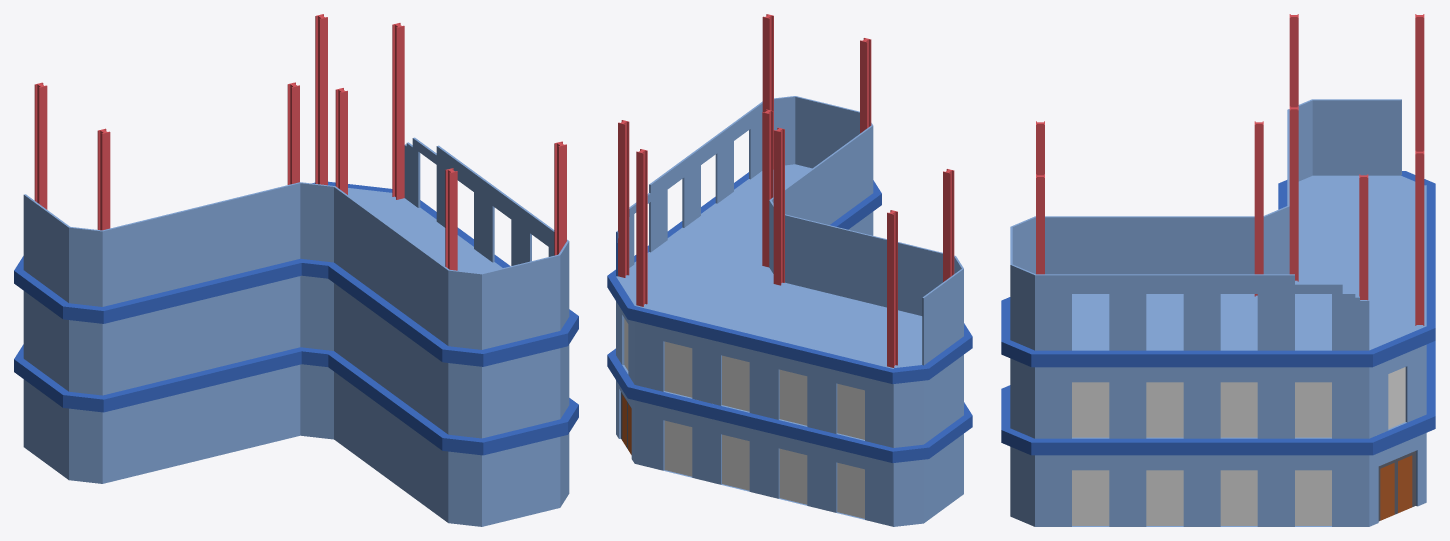
3 renders of one model, left to right at view 1: azimuth 30°, elevation 25°; view 2: azimuth 150°, elevation 25°; view 3: azimuth 270°, elevation 25°, orthographic. The views are drawn at different scales.
Parts seen in each view (by area): view 1: Predio 6 A.001; view 2: Predio 6 A.001; view 3: Predio 6 A.001.
Part boxes in pixels (box(x1,y1,x2,y2)): Predio 6 A.001: box(14, 14, 578, 526); Predio 6 A.001: box(607, 14, 972, 526); Predio 6 A.001: box(1001, 14, 1435, 526).
Bounding box in the file's own units: 8946 × 7913 × 8946.
